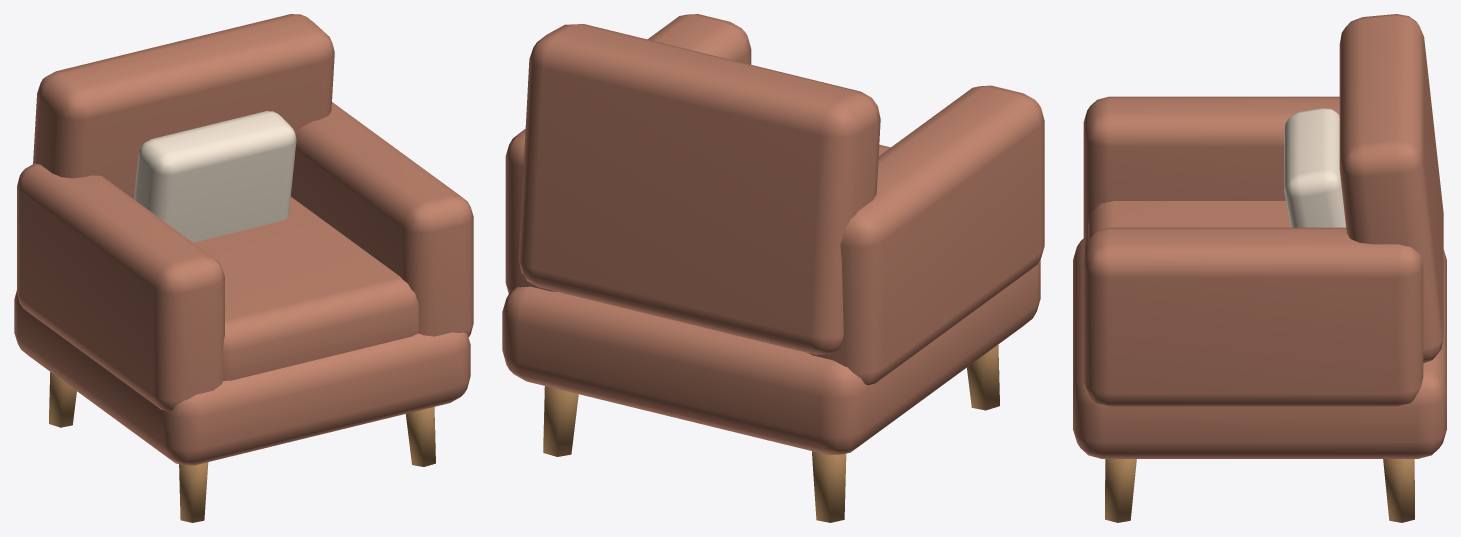
The model's file is floralArmchair.glb.
3 renders of one model, left to right at view 1: azimuth 30°, elevation 25°; view 2: azimuth 150°, elevation 25°; view 3: azimuth 270°, elevation 25°, orthographic. The views are drawn at different scales.
Visible parts, largest first — view 1: floralArmchair_arm_-1, floralArmchair_back, floralArmchair_base, floralArmchair_seat, floralArmchair_arm_1, floralArmchair_pillow, floralArmchair_leg_-0.33_-0.325, floralArmchair_leg_0.33_-0.325, floralArmchair_leg_-0.33_0.325; view 2: floralArmchair_back, floralArmchair_base, floralArmchair_arm_-1, floralArmchair_arm_1, floralArmchair_leg_-0.33_0.325, floralArmchair_leg_0.33_0.325, floralArmchair_leg_-0.33_-0.325; view 3: floralArmchair_arm_1, floralArmchair_back, floralArmchair_base, floralArmchair_arm_-1, floralArmchair_pillow, floralArmchair_seat, floralArmchair_leg_0.33_0.325, floralArmchair_leg_0.33_-0.325.
Part boxes in pixels (<box>): floralArmchair_arm_-1: <box>17,163,224,411</box>; floralArmchair_back: <box>33,14,334,198</box>; floralArmchair_base: <box>14,290,470,465</box>; floralArmchair_seat: <box>193,197,418,380</box>; floralArmchair_arm_1: <box>291,102,473,337</box>; floralArmchair_pillow: <box>134,111,296,242</box>; floralArmchair_leg_-0.33_-0.325: <box>179,462,208,522</box>; floralArmchair_leg_0.33_-0.325: <box>406,407,435,466</box>; floralArmchair_leg_-0.33_0.325: <box>49,372,76,427</box>; floralArmchair_back: <box>518,24,880,354</box>; floralArmchair_base: <box>502,259,1040,454</box>; floralArmchair_arm_-1: <box>809,85,1044,385</box>; floralArmchair_arm_1: <box>505,14,751,293</box>; floralArmchair_leg_-0.33_0.325: <box>812,451,846,522</box>; floralArmchair_leg_0.33_0.325: <box>543,386,578,456</box>; floralArmchair_leg_-0.33_-0.325: <box>967,345,999,410</box>; floralArmchair_arm_1: <box>1083,227,1423,406</box>; floralArmchair_back: <box>1339,14,1443,363</box>; floralArmchair_base: <box>1073,239,1446,458</box>; floralArmchair_arm_-1: <box>1083,96,1339,249</box>; floralArmchair_pillow: <box>1284,108,1345,227</box>; floralArmchair_seat: <box>1088,201,1290,239</box>; floralArmchair_leg_0.33_0.325: <box>1383,459,1414,522</box>; floralArmchair_leg_0.33_-0.325: <box>1105,459,1136,522</box>.
Bounding box in the file's own units: 0.93 × 0.9849 × 0.88.
